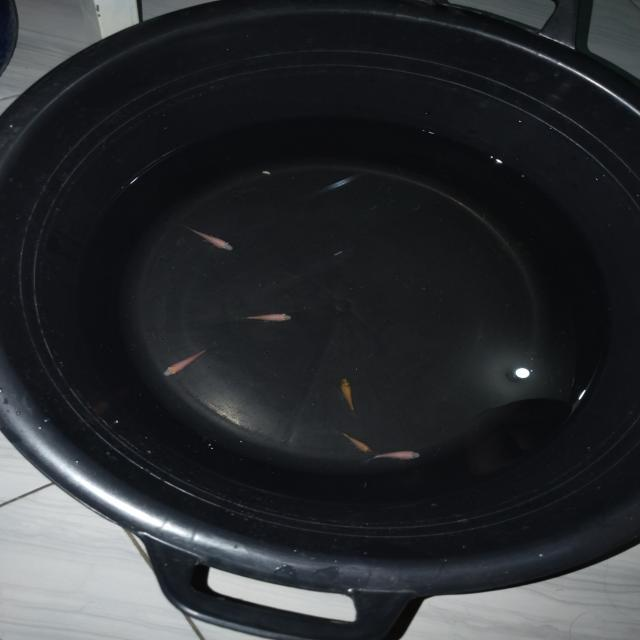nila: (158, 346, 204, 380), (184, 226, 235, 256), (334, 372, 362, 412), (340, 430, 373, 460), (370, 446, 422, 462), (241, 311, 296, 323)
